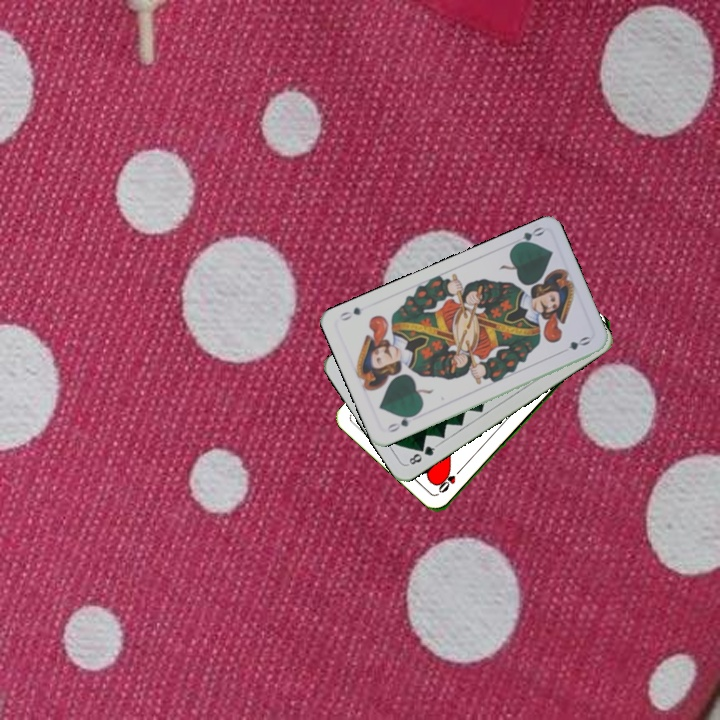G8: (404, 441, 440, 468)
GO: (509, 223, 546, 250), (383, 410, 419, 435)
HO: (434, 463, 465, 496)
